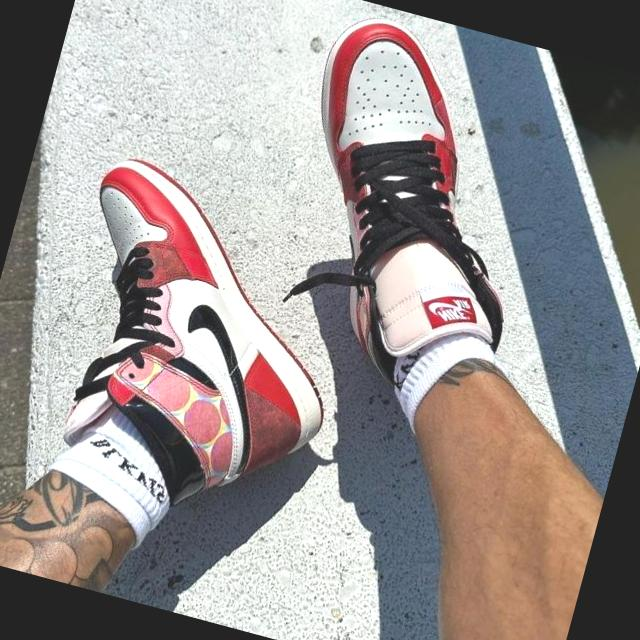nike_original_jordan: (19, 151, 374, 538), (248, 6, 574, 405)
